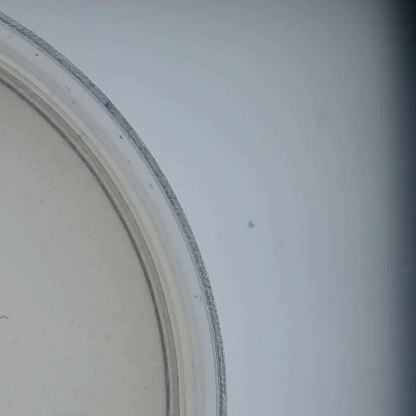worm: (0, 306, 24, 323)
